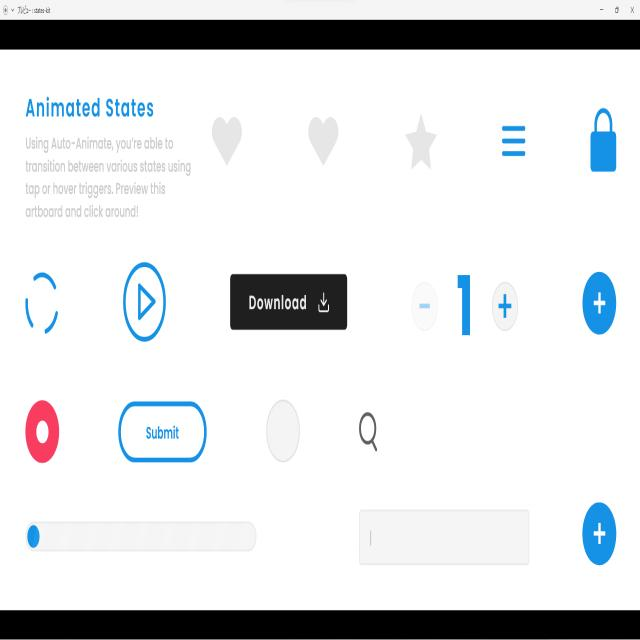radio: (24, 398, 61, 463)
